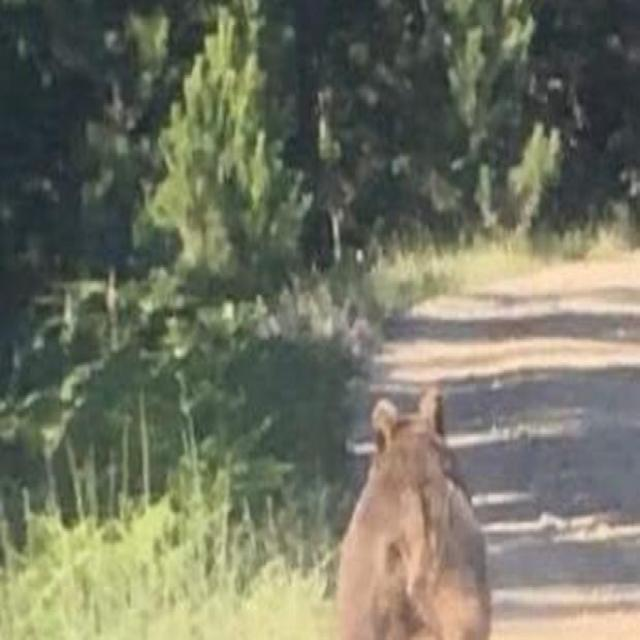Bear: (337, 396, 493, 640)
